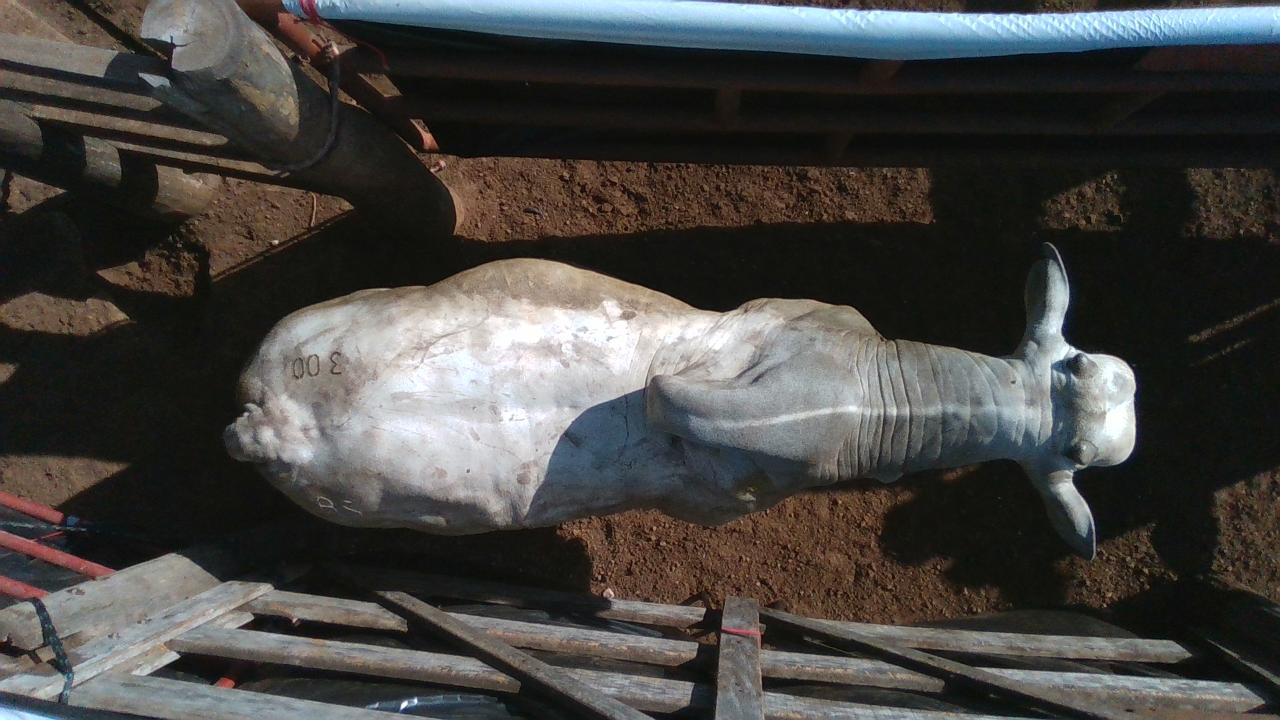cattle: (222, 240, 1139, 560)
